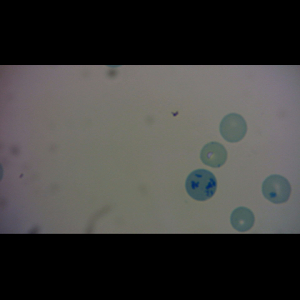aggregate reticulocyte: (185, 168, 219, 203)
erythrocyte: (260, 173, 293, 205), (219, 112, 248, 145), (229, 206, 257, 233)
punctate reticulocyte: (199, 140, 228, 170)
